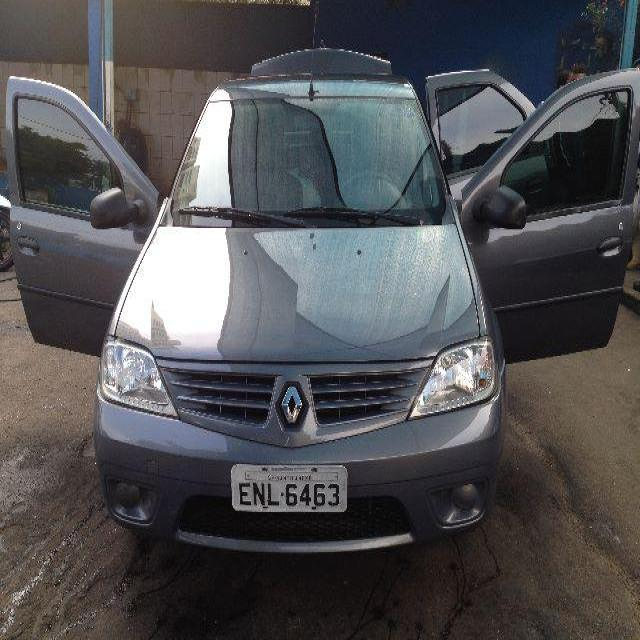Placa: (228, 461, 349, 517)
